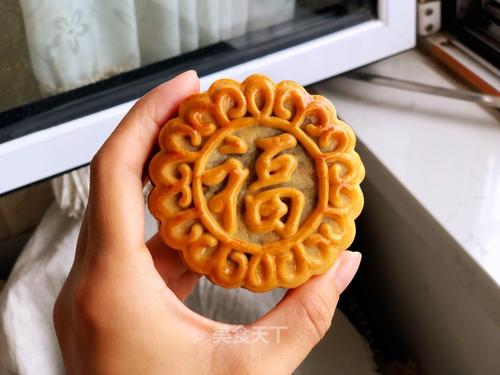MoonCake: (145, 72, 367, 294)
